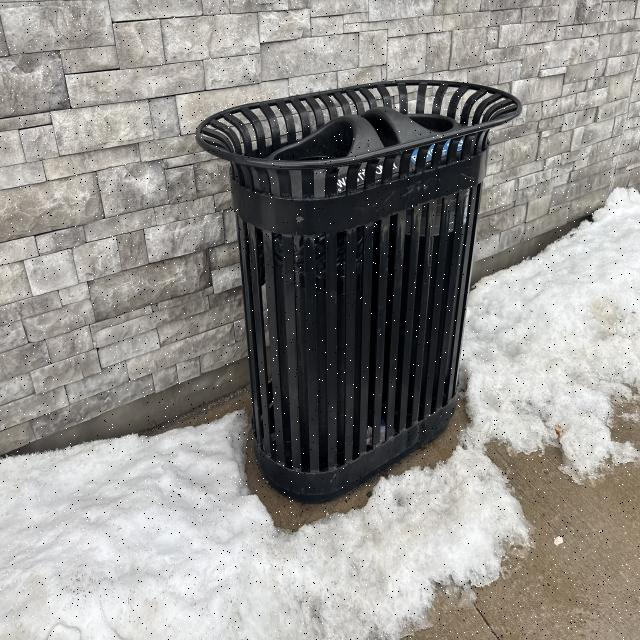Dustbin: (197, 78, 523, 504)
